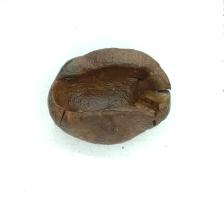NG: (55, 62, 160, 123)
